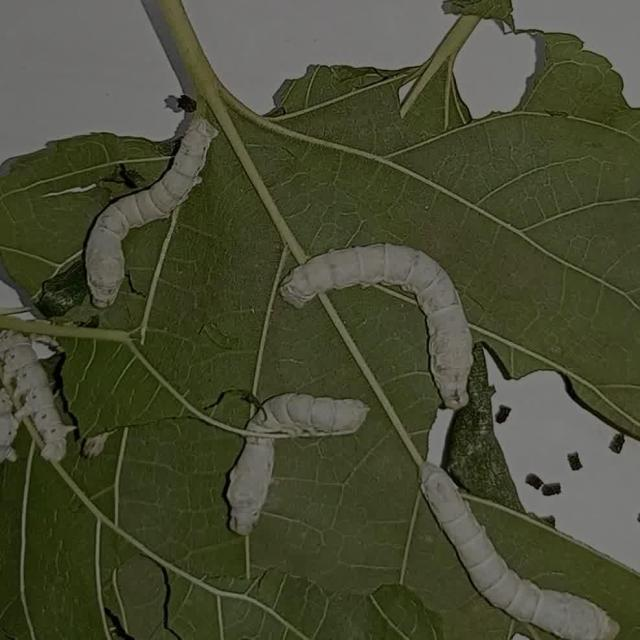Healthy: (276, 230, 586, 420), (411, 432, 640, 636), (68, 85, 250, 316), (183, 365, 406, 540), (0, 302, 104, 499)
